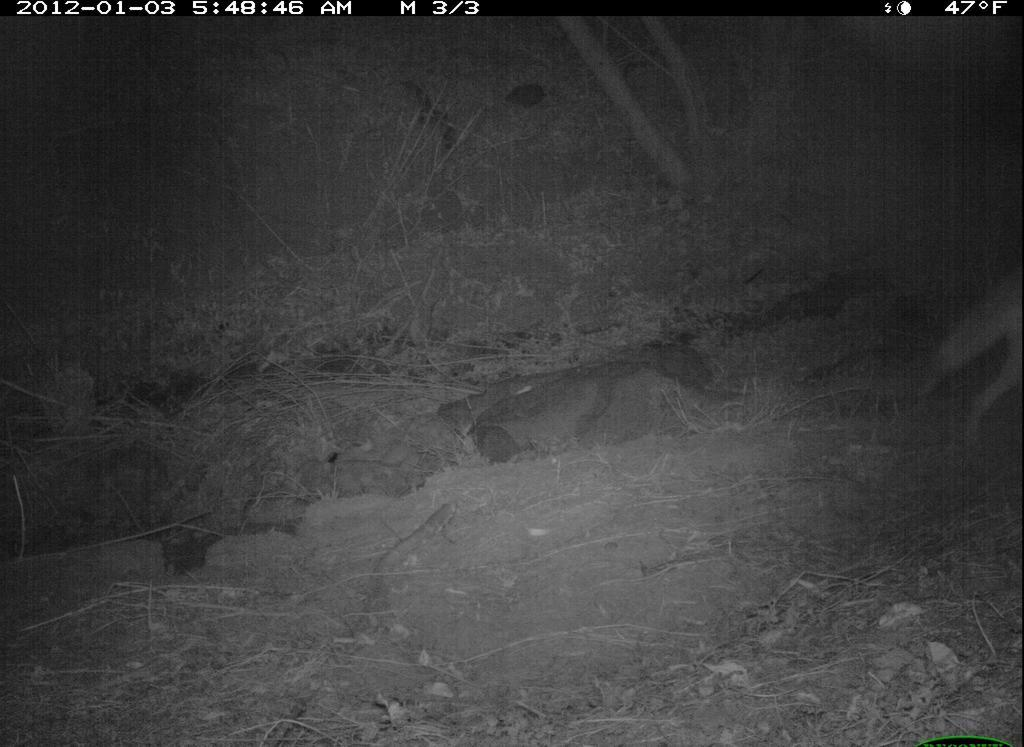coyote: (909, 214, 1023, 441)
